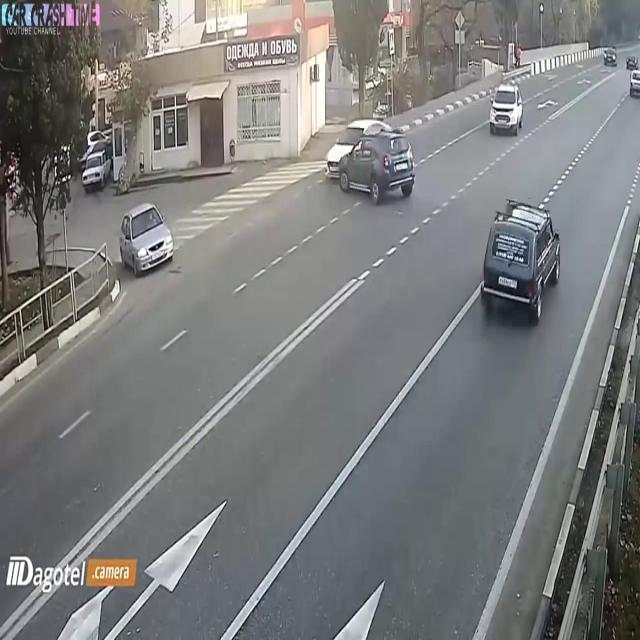accident: (327, 106, 418, 208)
